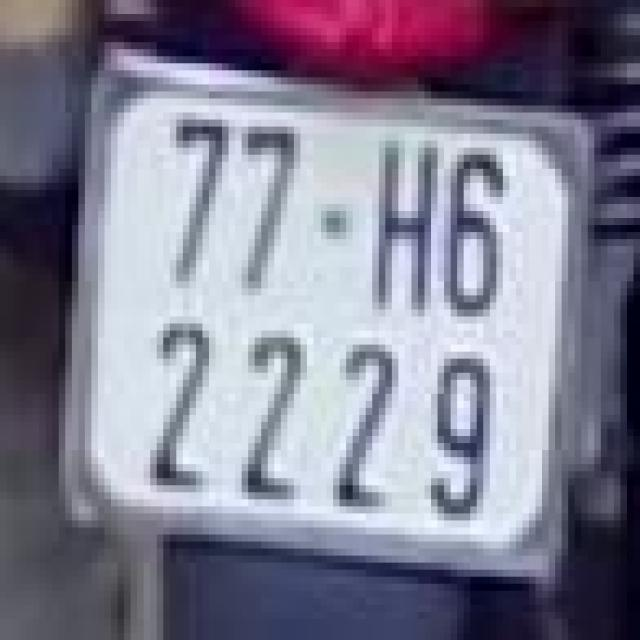2: (330, 324, 408, 520), (235, 320, 307, 510), (144, 316, 216, 492)
6: (444, 134, 516, 324)
7: (170, 112, 235, 288), (242, 116, 307, 292)
9: (424, 341, 503, 531)
H: (372, 126, 444, 316)
